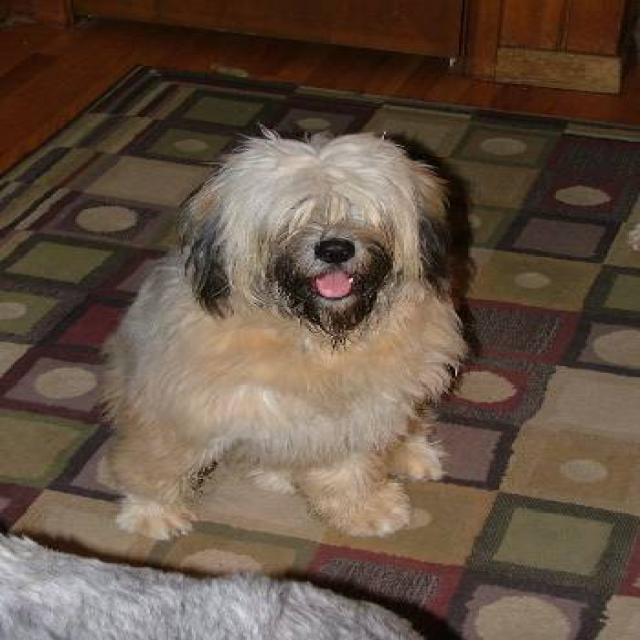dog: (93, 122, 476, 541)
